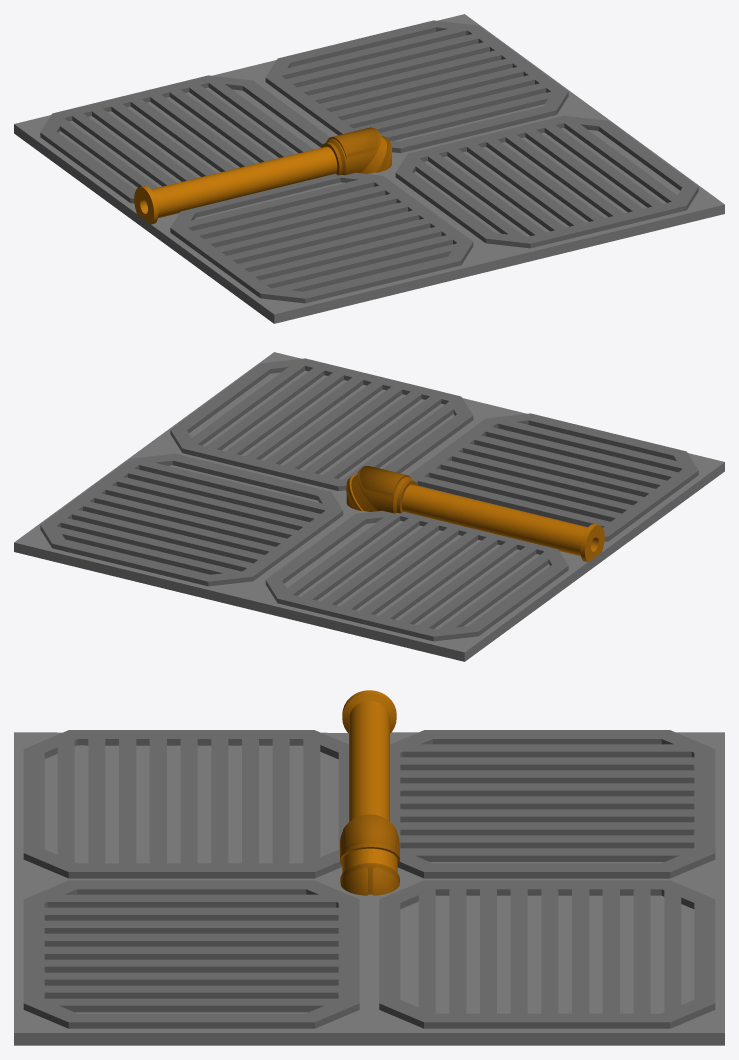
The model's file is Space_Ship_Set_5.fbx.
3 renders of one model, top to bottom at view 1: azimuth 30°, elevation 25°; view 2: azimuth 150°, elevation 25°; view 3: azimuth 270°, elevation 25°, orthographic. The views are drawn at different scales.
Visible parts, largest first — view 1: Space_Ship_Set_1_50mm_5; view 2: Space_Ship_Set_1_50mm_5; view 3: Space_Ship_Set_1_50mm_5.
Part boxes in pixels (box(x1,y1,x2,y2)): Space_Ship_Set_1_50mm_5: box(14, 14, 724, 323); Space_Ship_Set_1_50mm_5: box(14, 352, 724, 661); Space_Ship_Set_1_50mm_5: box(14, 690, 724, 1045).
Size of the model in its own units: 0.03 by 0.00275 by 0.03.
Materials: 1 (1 with a texture image).
